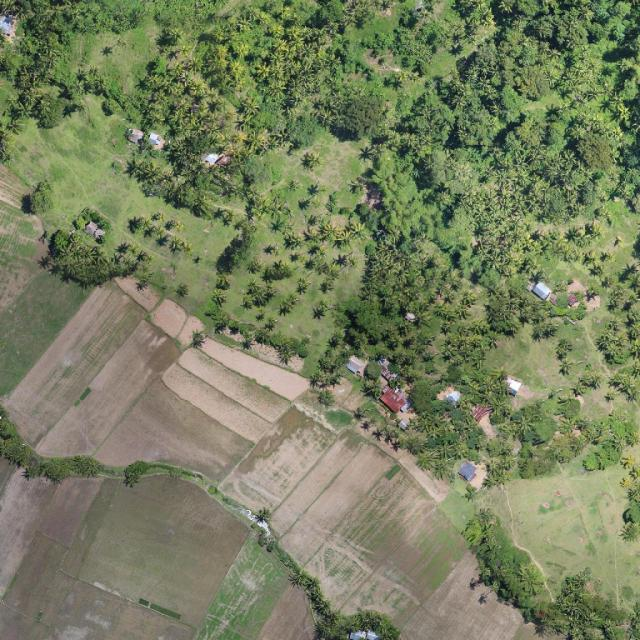building: (353, 356, 394, 398), (376, 381, 425, 416), (422, 384, 434, 406)
